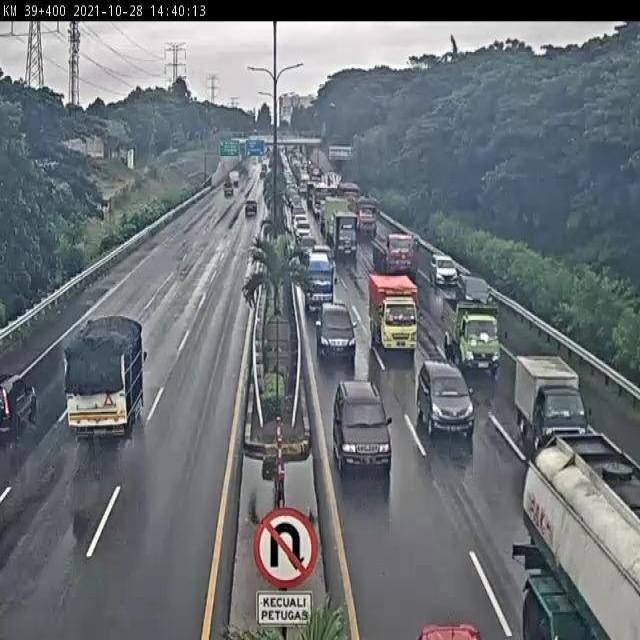big truck: (371, 228, 422, 277)
car: (514, 355, 593, 449), (332, 380, 396, 469), (416, 360, 478, 440), (316, 301, 355, 359), (457, 271, 495, 312), (430, 252, 459, 291)
small bus: (303, 247, 339, 316)
small truck: (439, 300, 502, 377), (369, 271, 423, 360)
truck-m-: (63, 318, 145, 438)
